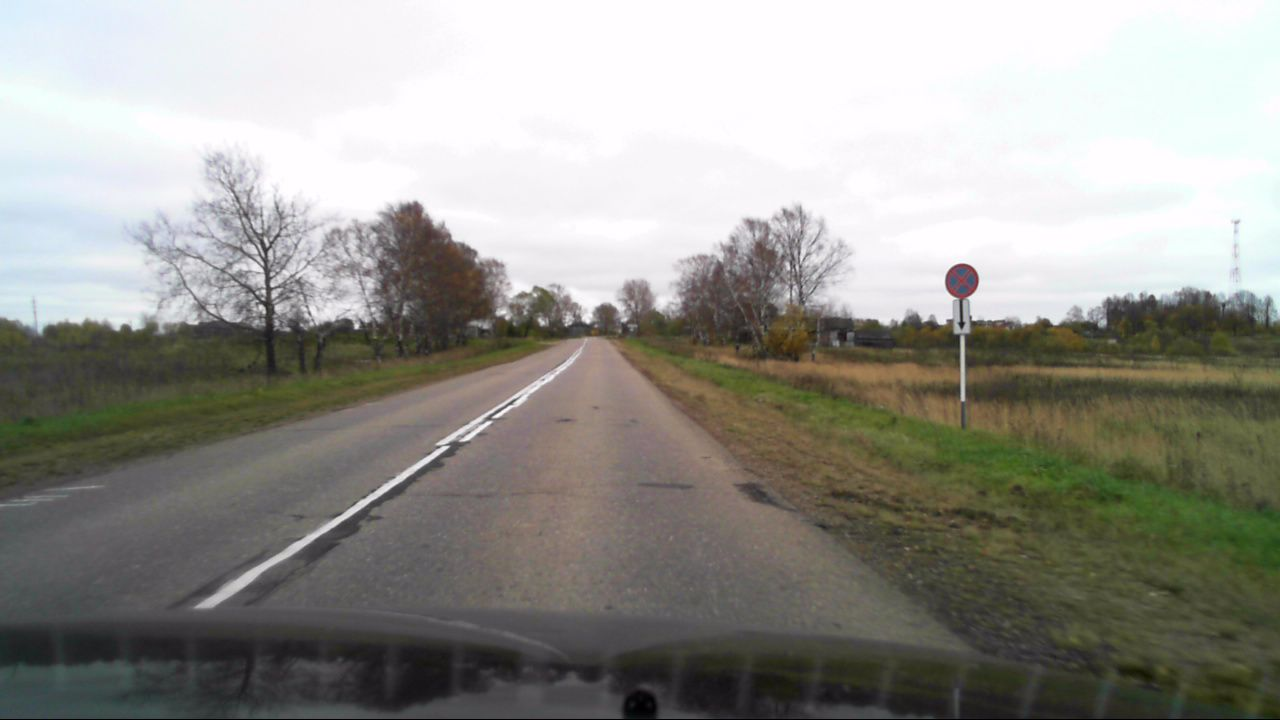No Parking: (944, 263, 978, 298)
